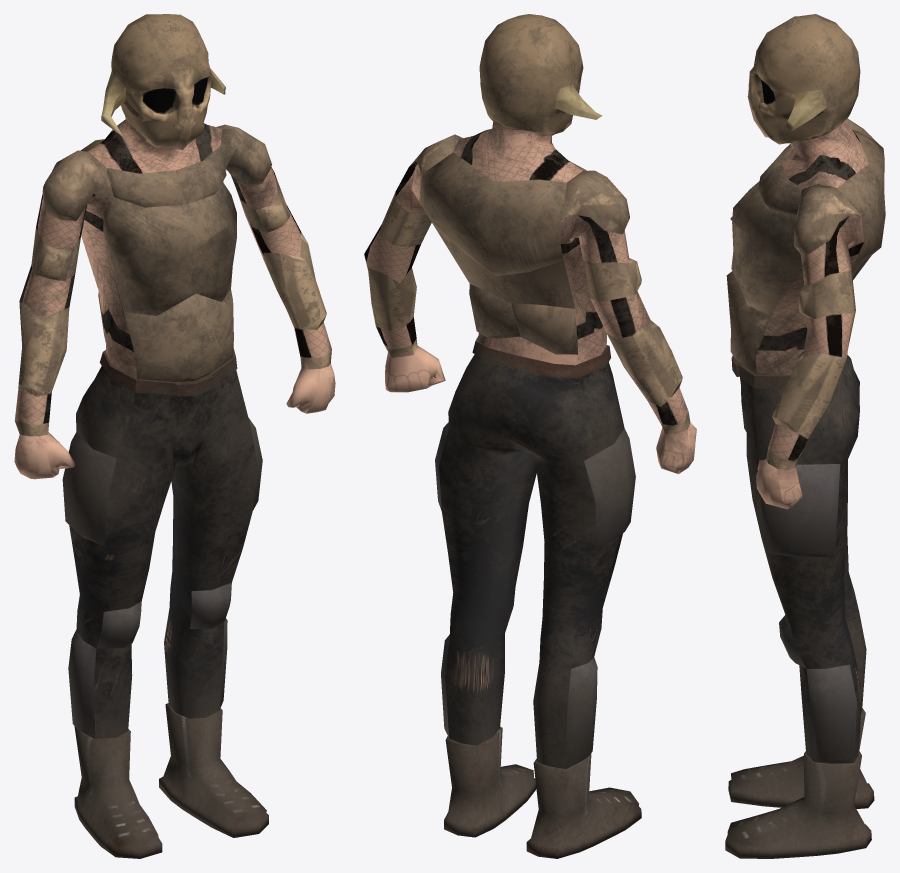
The model's file is Anim_cogerobjeto_npc1.0015.obj.
3 renders of one model, left to right at view 1: azimuth 30°, elevation 25°; view 2: azimuth 150°, elevation 25°; view 3: azimuth 270°, elevation 25°, orthographic.
Parts seen in each view (by area): view 1: NPC2; view 2: NPC2; view 3: NPC2.
Part boxes in pixels (x1,y1,x2,y2): NPC2: [14, 14, 335, 858]; NPC2: [364, 14, 696, 858]; NPC2: [725, 14, 885, 858].
Bounding box in the file's own units: 3.93 × 9.65 × 1.75.
